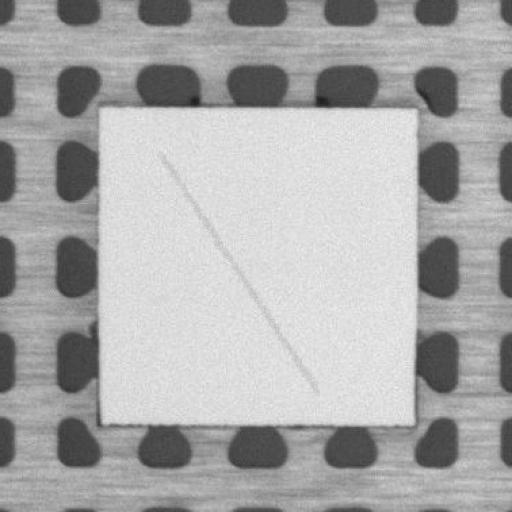DIE_CRACK: (160, 154, 316, 392)
